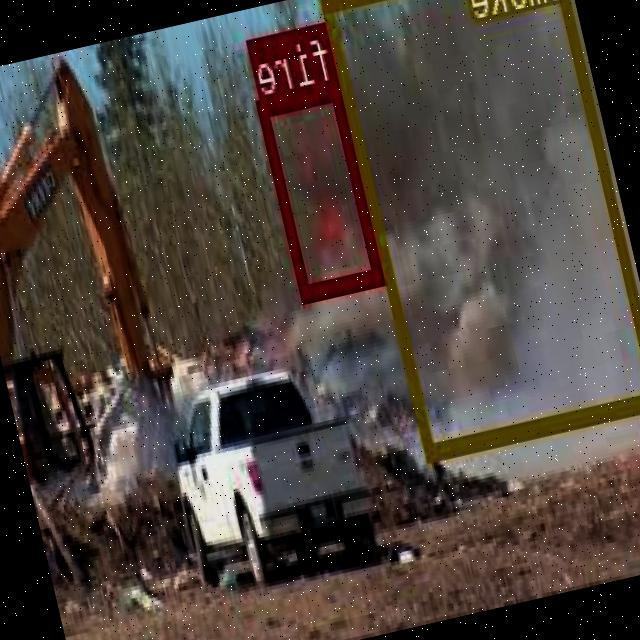fire: (256, 80, 386, 298)
smoke: (322, 0, 640, 457)
